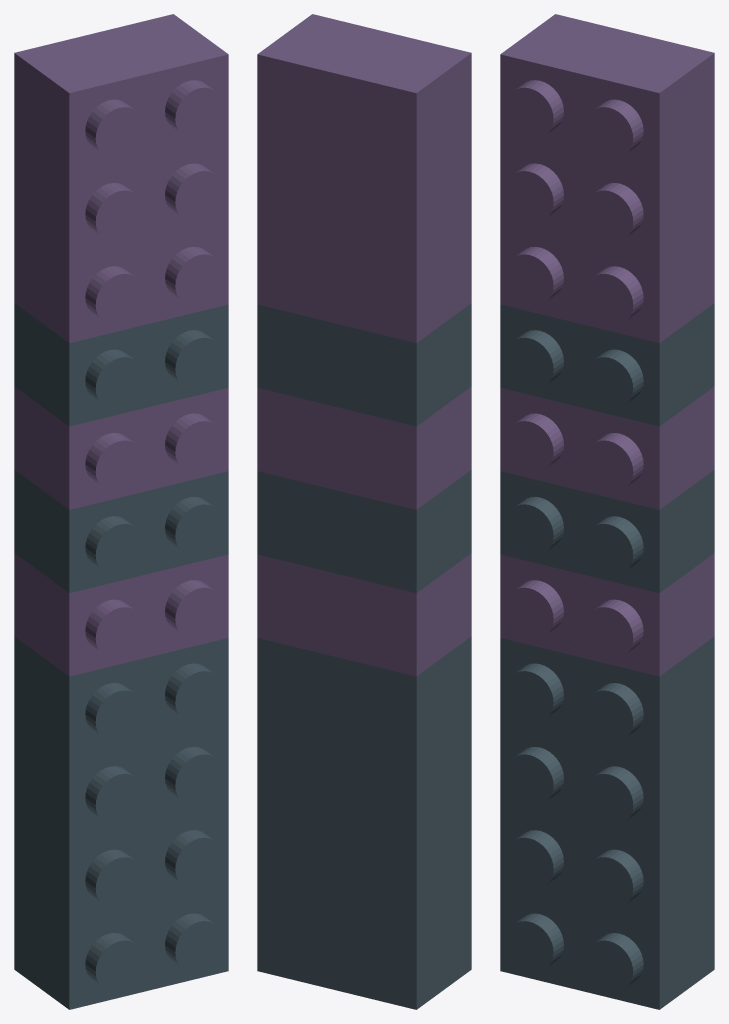
Rendered from current.glb.
The picture shows the model from 3 angles, left to right: view 1: azimuth 30°, elevation 25°; view 2: azimuth 150°, elevation 25°; view 3: azimuth 330°, elevation 25°; orthographic projection.
Parts seen in each view (by area): view 1: world; view 2: world; view 3: world.
Boxes of the visible parts, x1=… form: world: x1=14, y1=14, x2=228, y2=1009; world: x1=257, y1=14, x2=471, y2=1009; world: x1=500, y1=14, x2=714, y2=1009.
Size of the model in its own units: 16 by 88 by 11.4.
